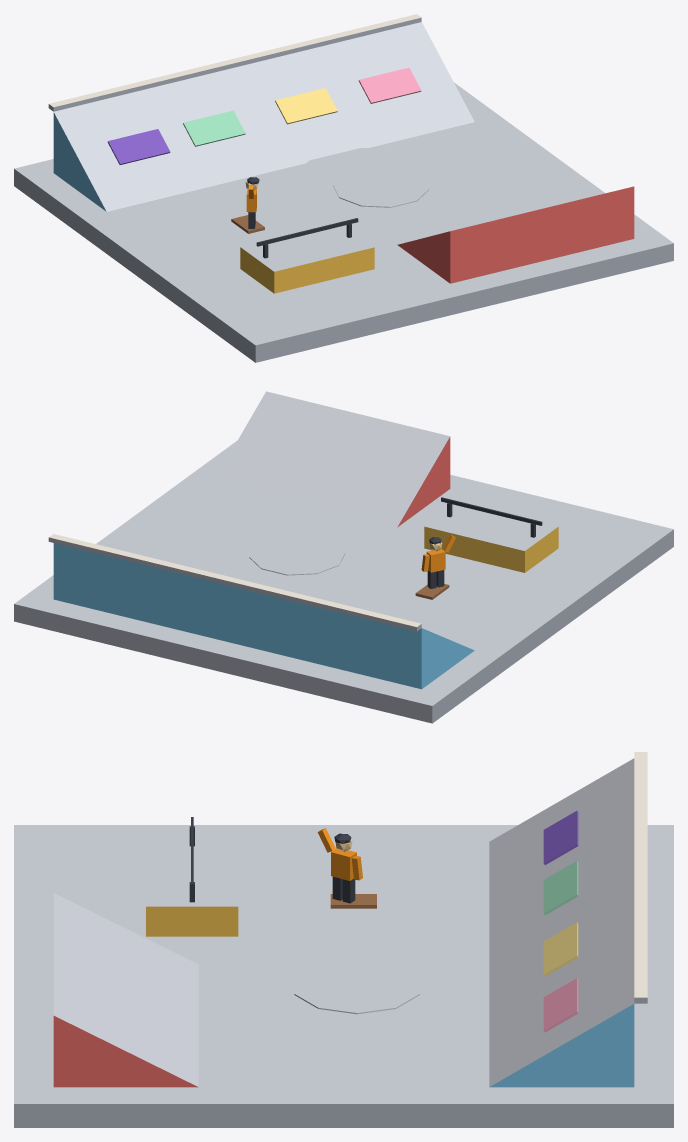
File: sport_skatepark.glb
The picture shows the model from 3 angles, top to bottom: view 1: azimuth 30°, elevation 25°; view 2: azimuth 150°, elevation 25°; view 3: azimuth 270°, elevation 25°; orthographic projection. The views are drawn at different scales.
Parts seen in each view (by area): view 1: sport_skatepark; view 2: sport_skatepark; view 3: sport_skatepark.
Boxes of the visible parts, left/top/right/bottom form: sport_skatepark: left=14, top=14, right=673, bottom=362; sport_skatepark: left=14, top=391, right=673, bottom=723; sport_skatepark: left=14, top=752, right=673, bottom=1127.
Size of the model in its own units: 1 by 0.19 by 1.
